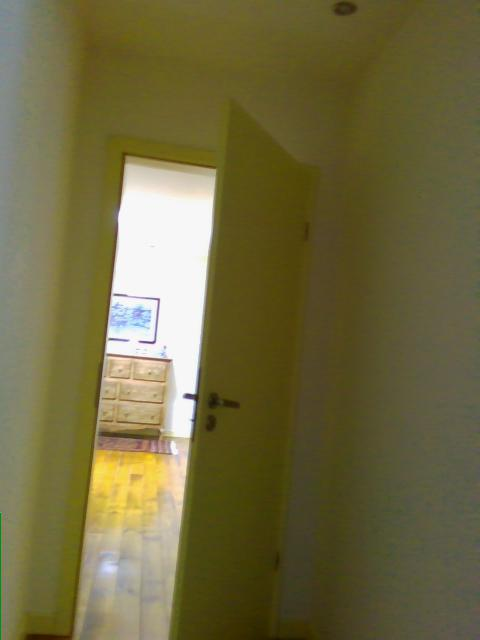semi_door: (51, 97, 320, 639)
